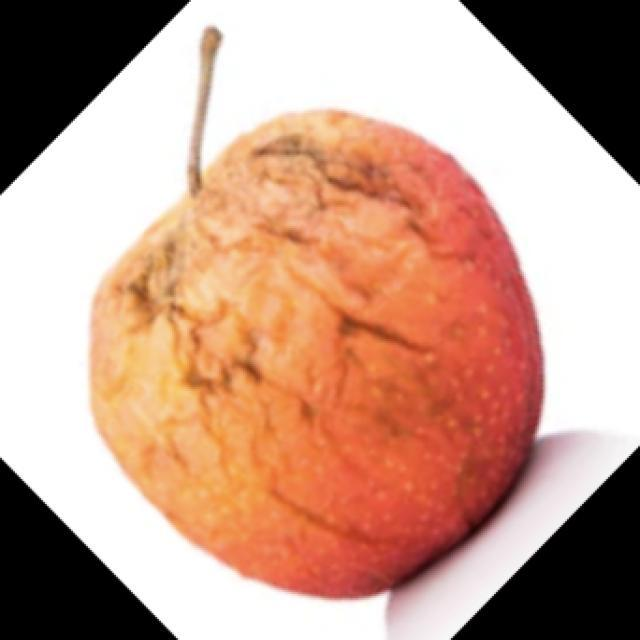Rotten: (98, 103, 550, 605)
